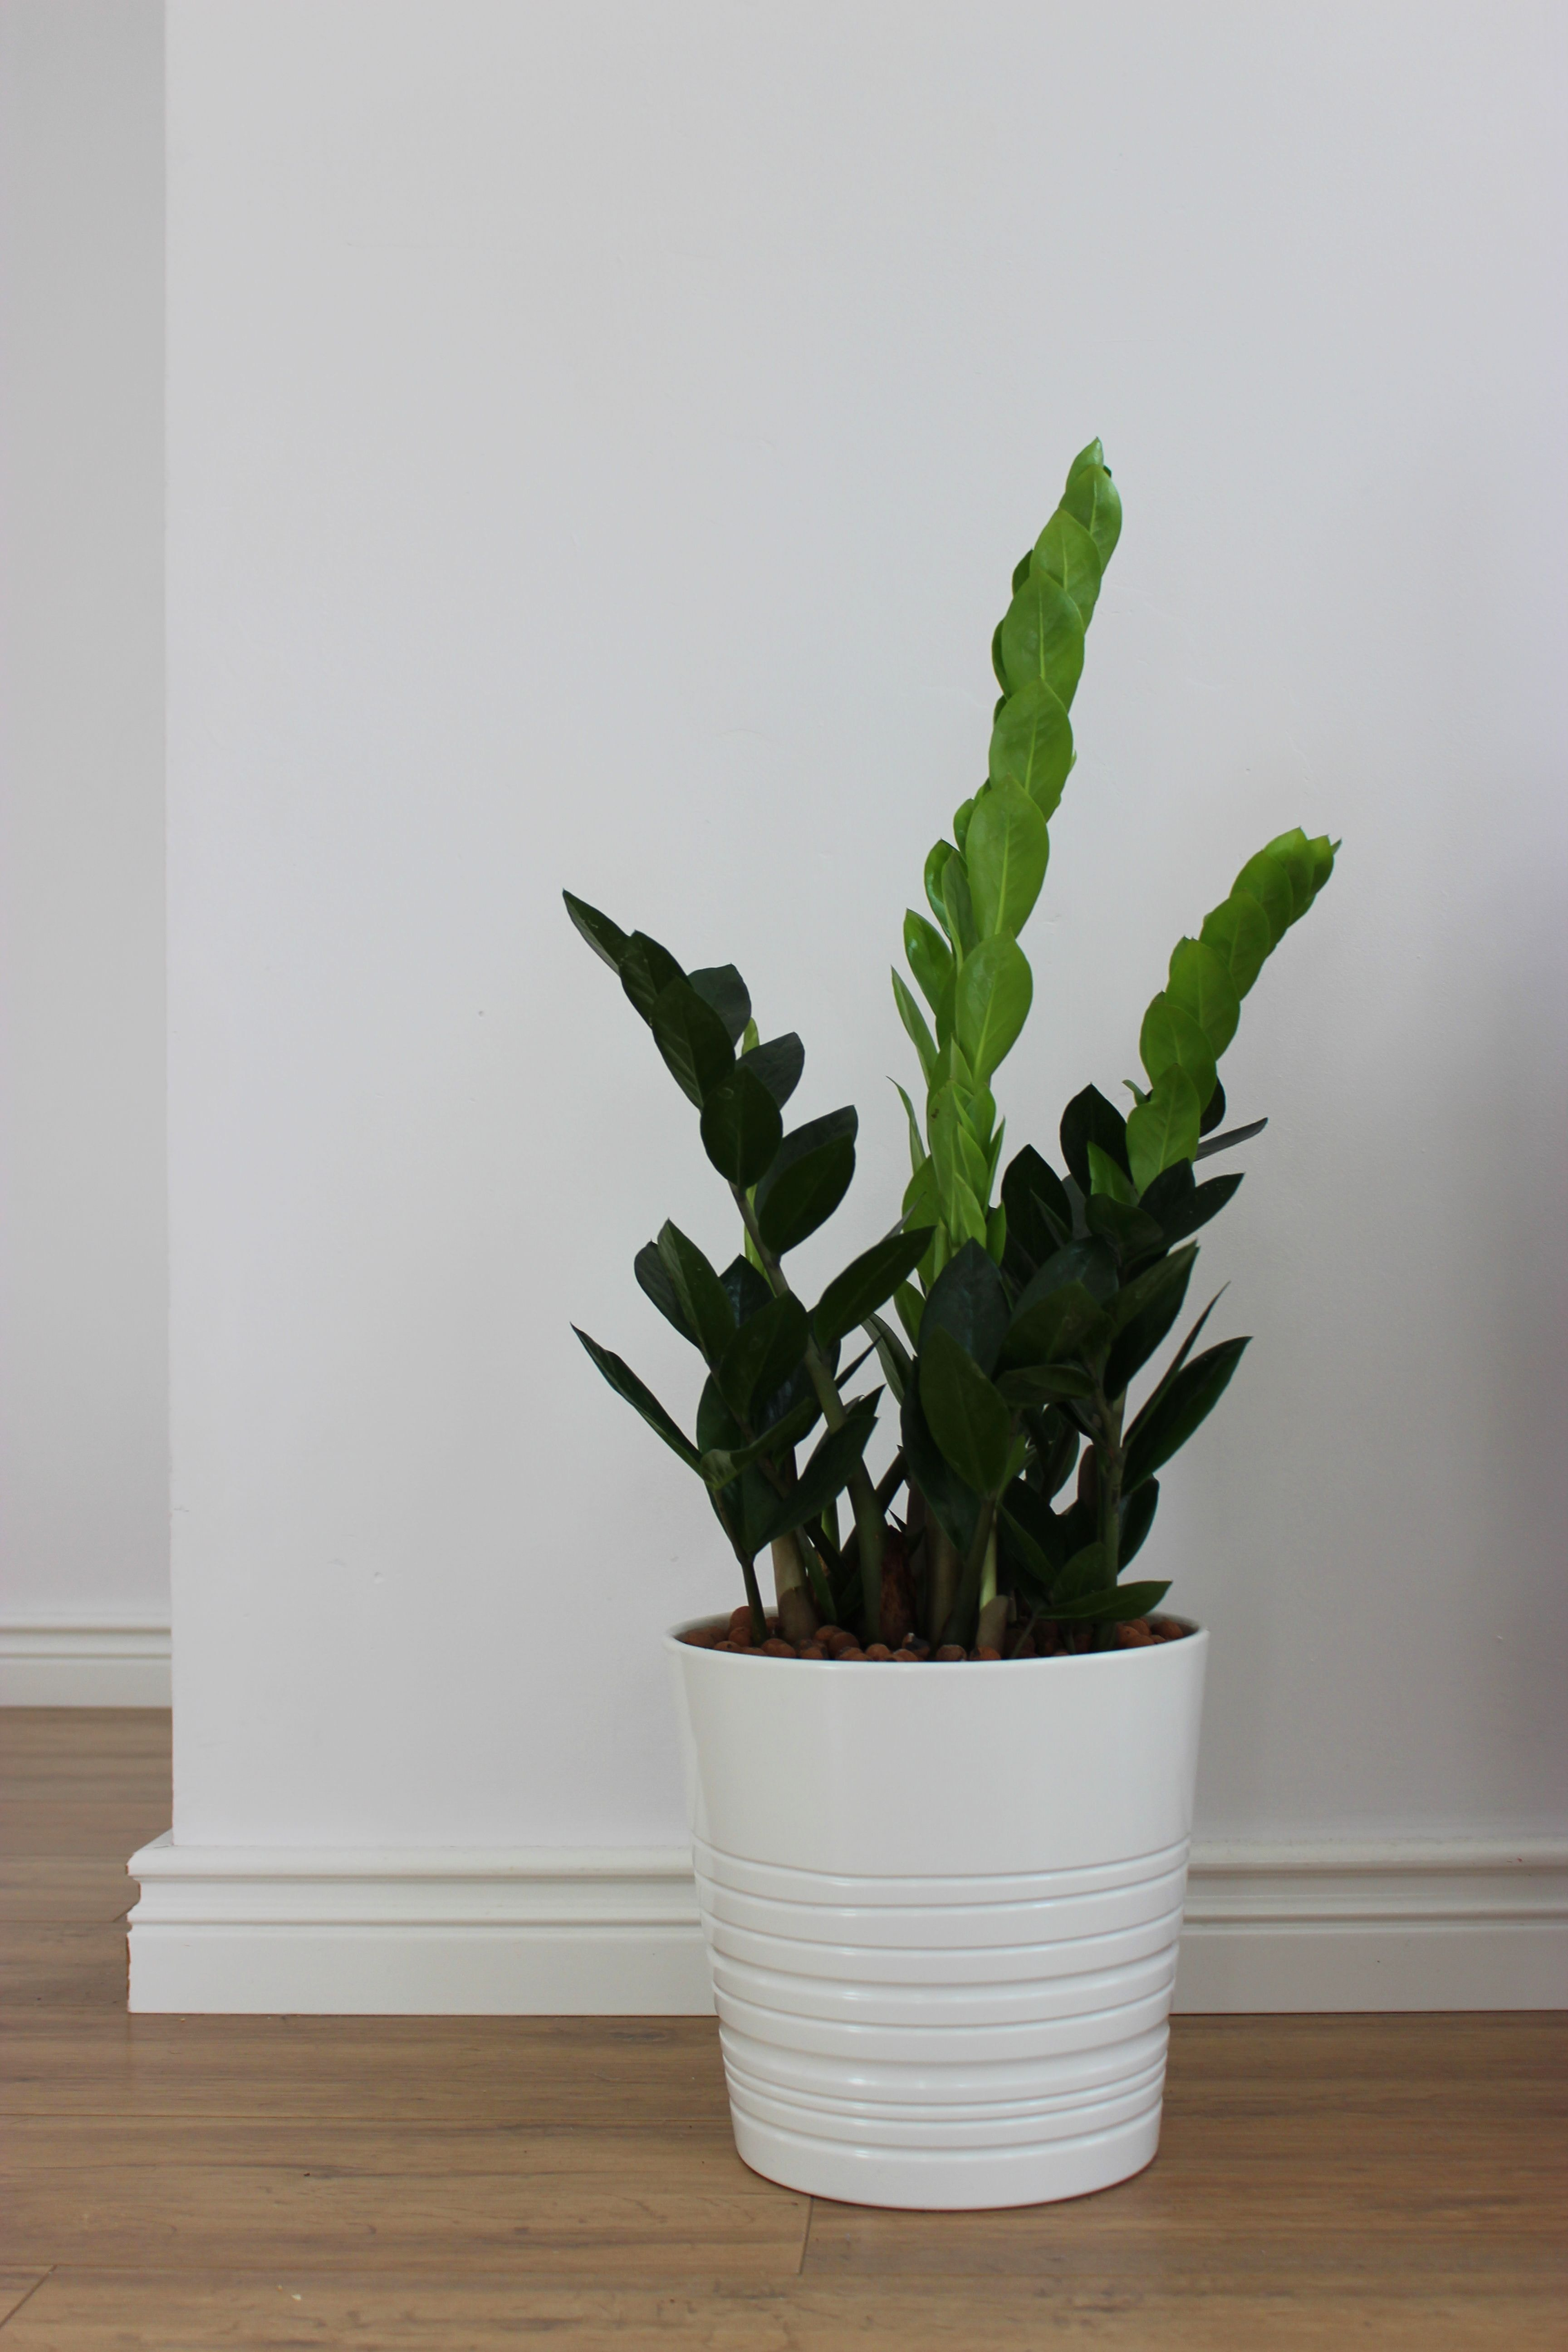Plant: (522, 434, 1354, 1654)
